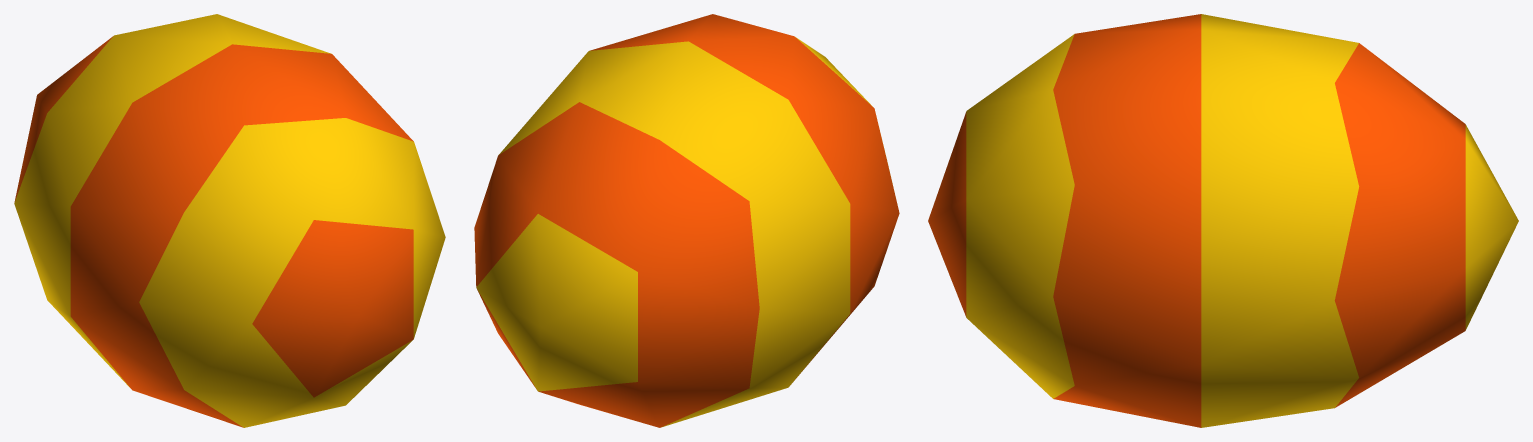
3 views of the same model, side by side, from view 1: azimuth 30°, elevation 25°; view 2: azimuth 150°, elevation 25°; view 3: azimuth 270°, elevation 25° (orthographic). The views are drawn at different scales.
Visible parts, largest first — view 1: 棱角球; view 2: 棱角球; view 3: 棱角球.
Part boxes in pixels (x1,y1,x2,y2): 棱角球: [14, 14, 445, 427]; 棱角球: [474, 14, 899, 427]; 棱角球: [928, 14, 1518, 427].
Bounding box in the file's own units: 1.9 × 2 × 2.8.
1 material, 1 textured.
